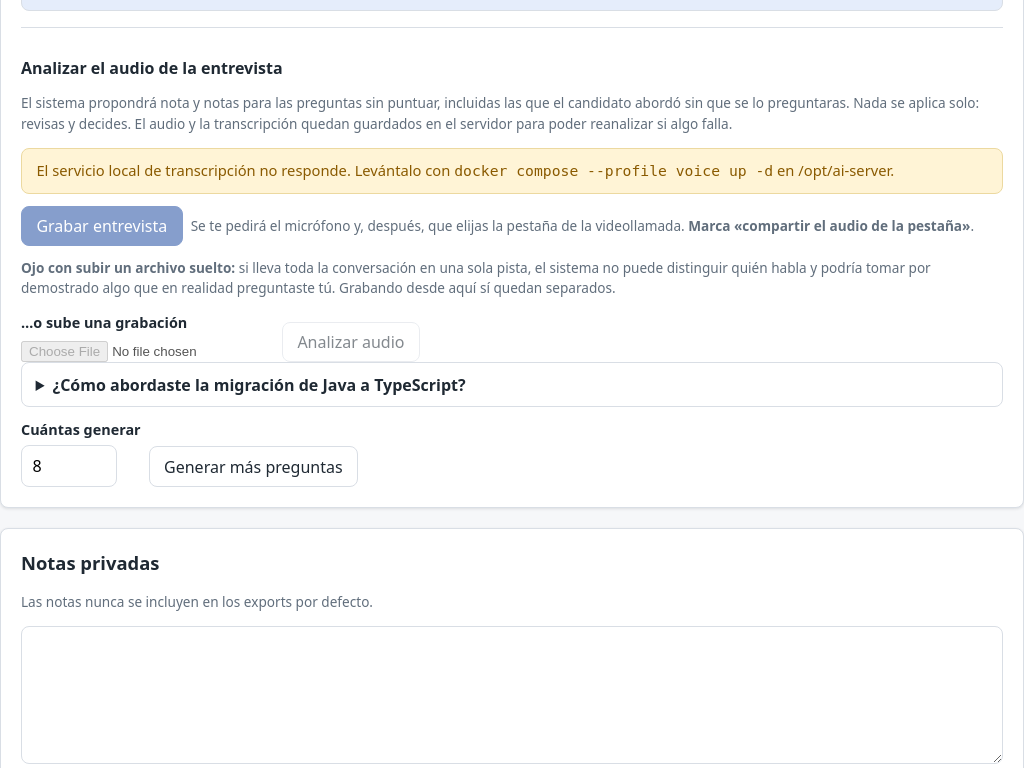
Test: CandidateDetailPage · entrevista › pulsar una nota envía { score } y refresca el panel de agregados
(page scrolled)
Click the heading "¿Cómo abordaste la migración de Java a TypeScript?".
click(259, 385)  # box [52, 374, 466, 396]
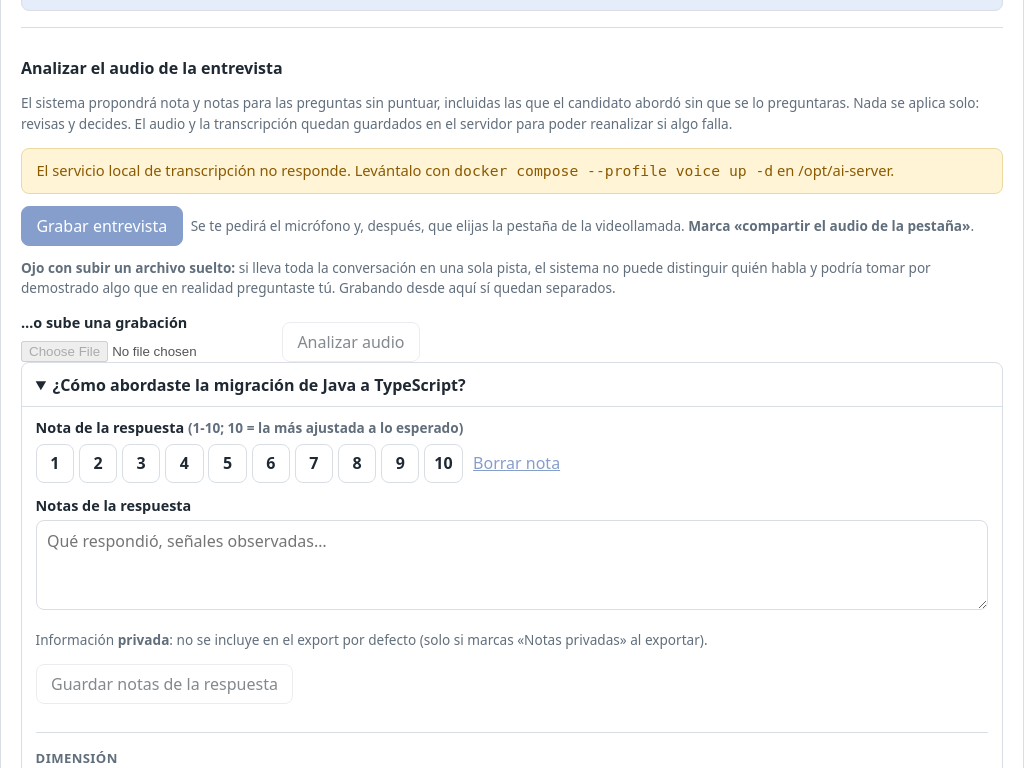
Click the button "8".
click(357, 463)  # box [338, 444, 376, 483]
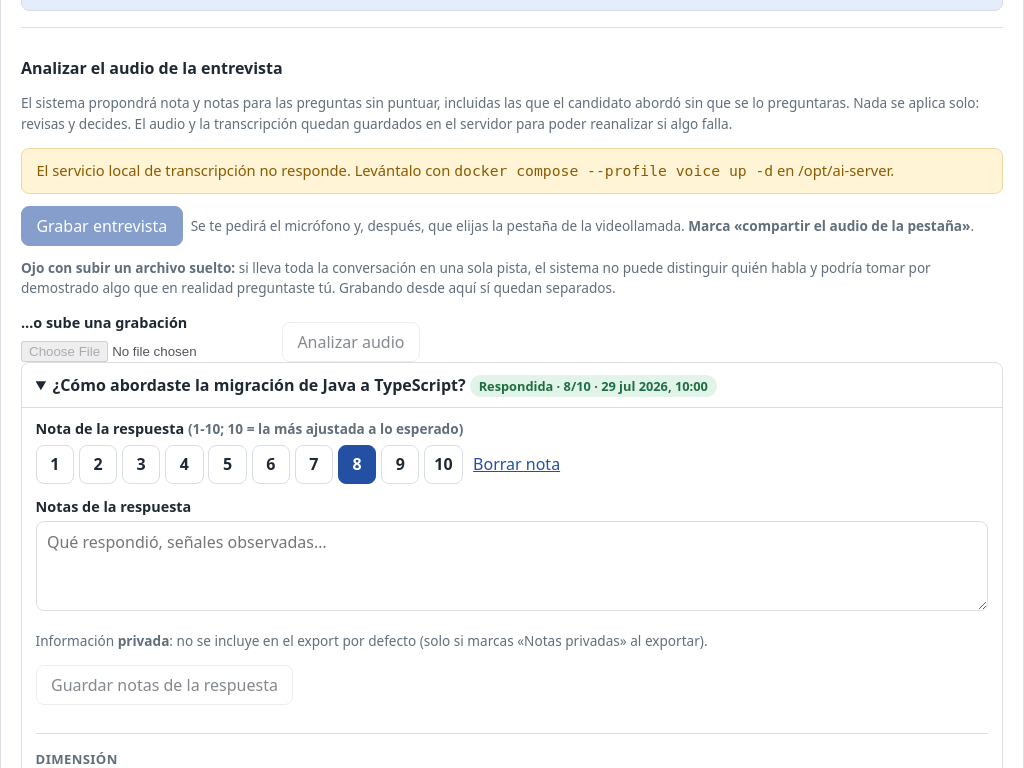
Expected: the text "Respondida · 8/10 · 29 jul 2026, 10:00" is shown, [470, 375, 717, 397]
